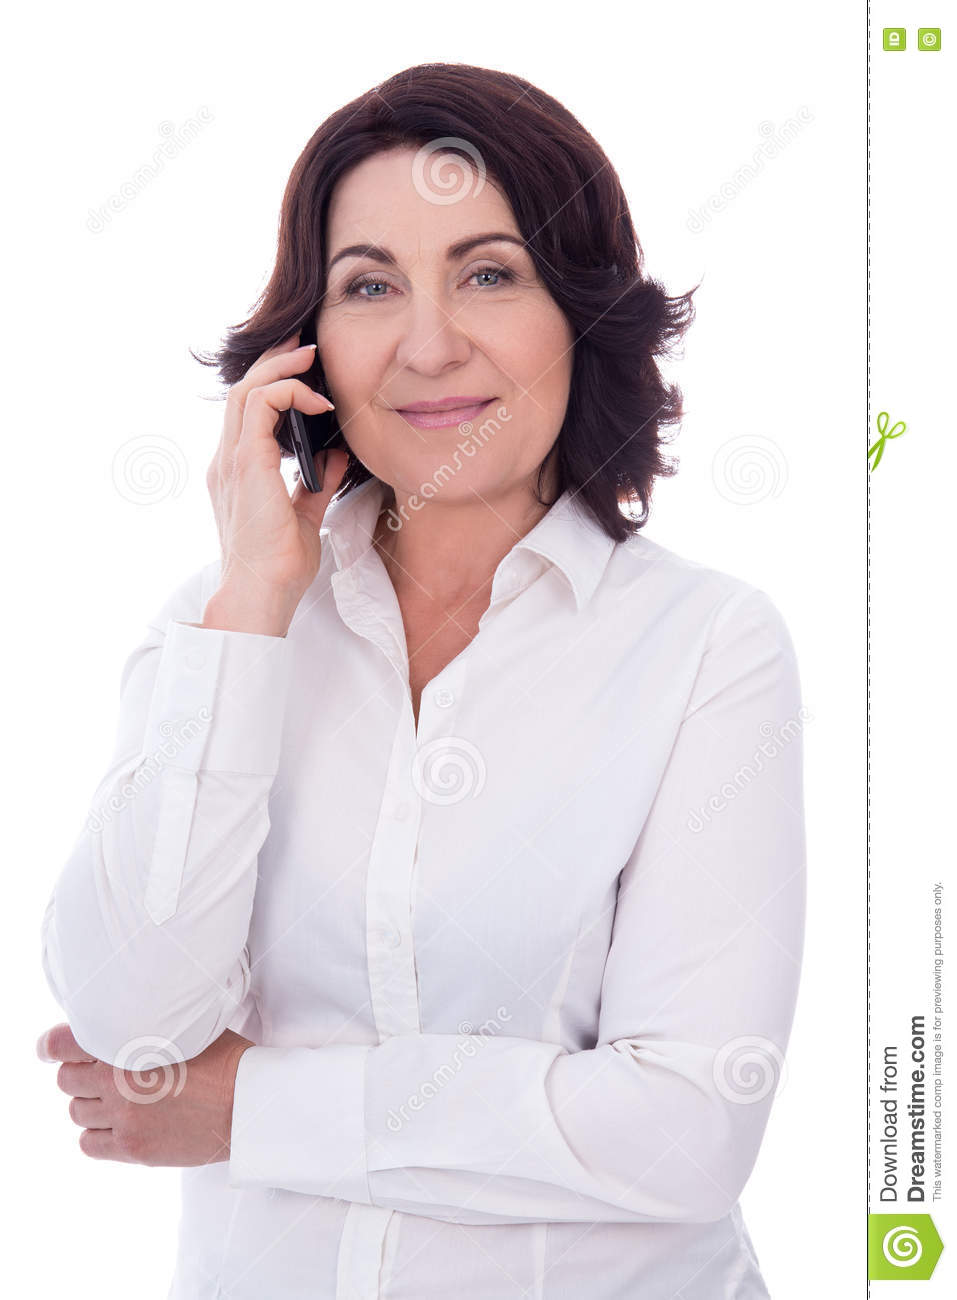phone: (278, 347, 347, 494)
talk: (204, 222, 535, 587)
